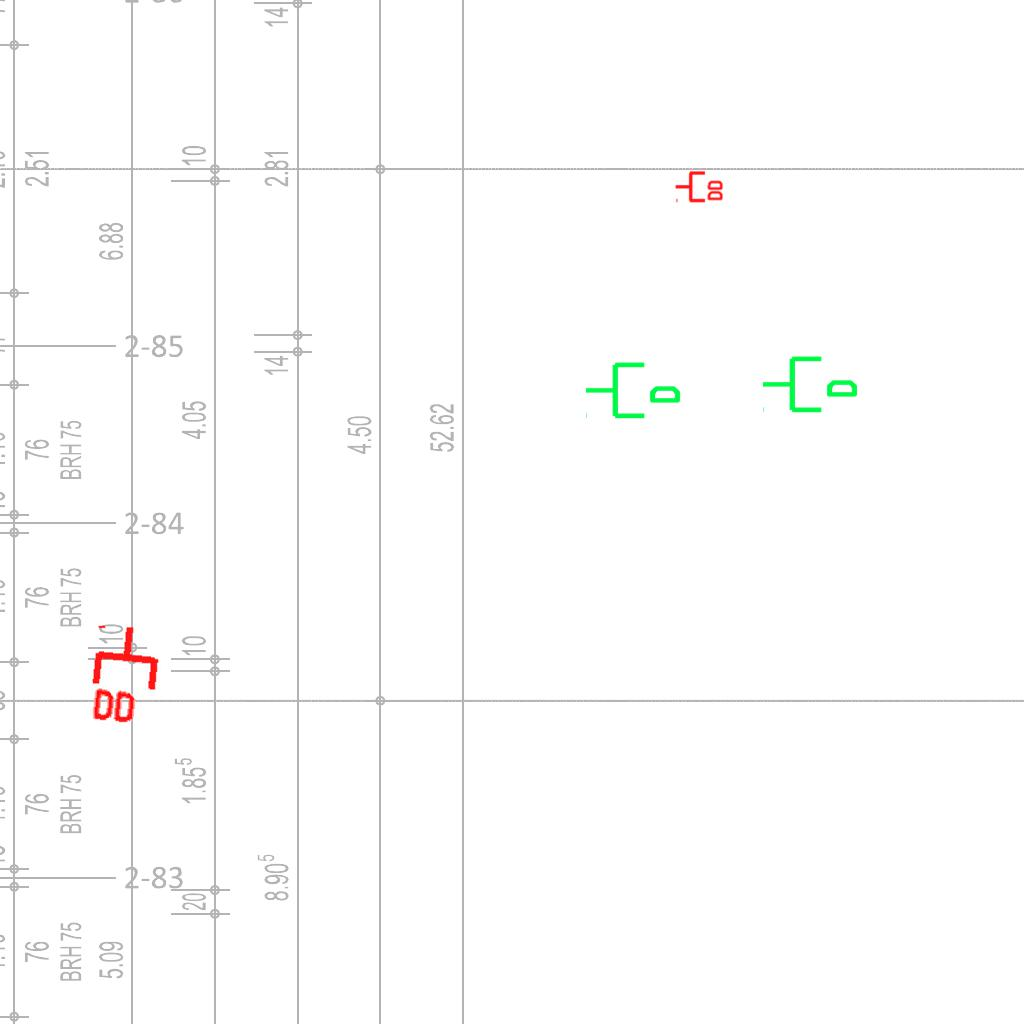Datenanschluss_einfach: (760, 348, 860, 417), (583, 354, 683, 423)
Datenanschluss_zweifach: (86, 620, 167, 731), (674, 169, 725, 203)
